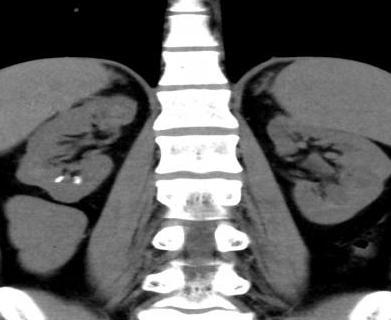Tas_Var: (54, 176, 66, 183), (73, 176, 82, 180), (74, 180, 82, 184)
